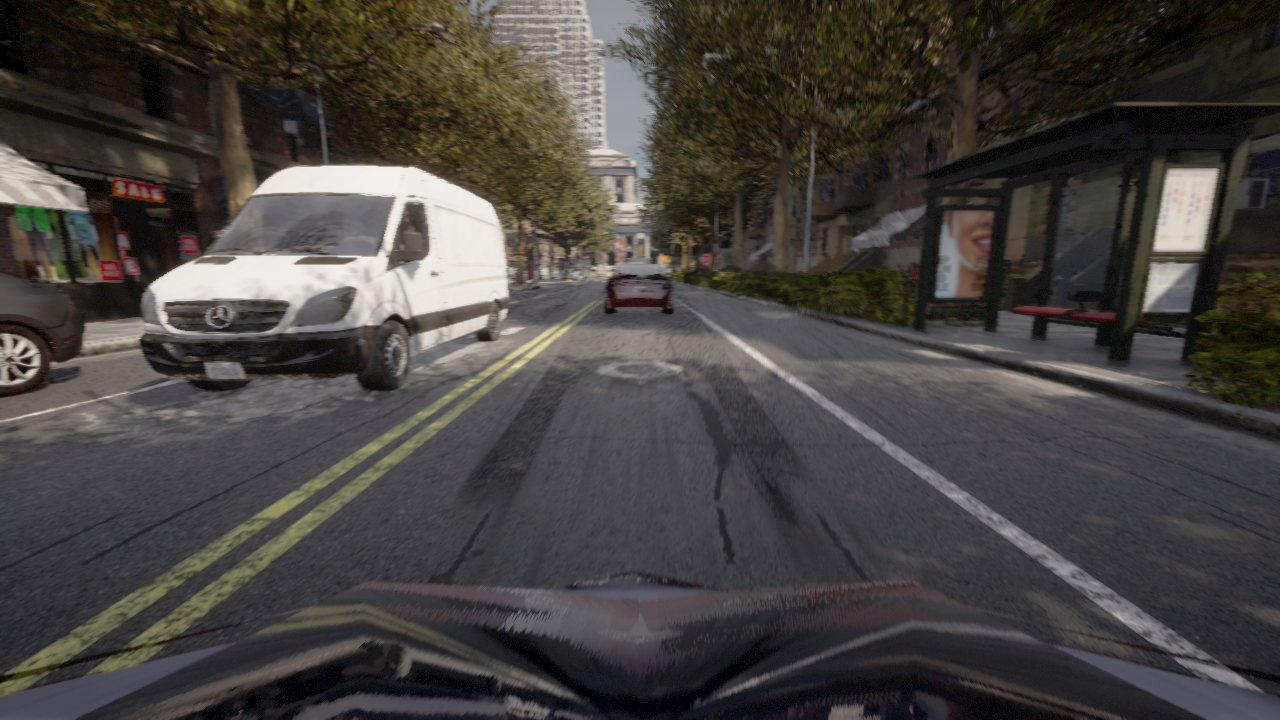cyclist: (0, 569, 1279, 719), (139, 165, 509, 390), (605, 264, 672, 314), (623, 258, 650, 264)
